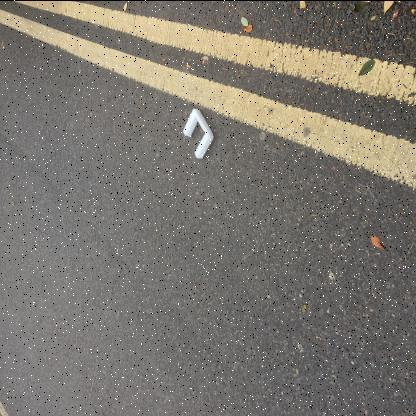foam: (183, 107, 214, 158)
